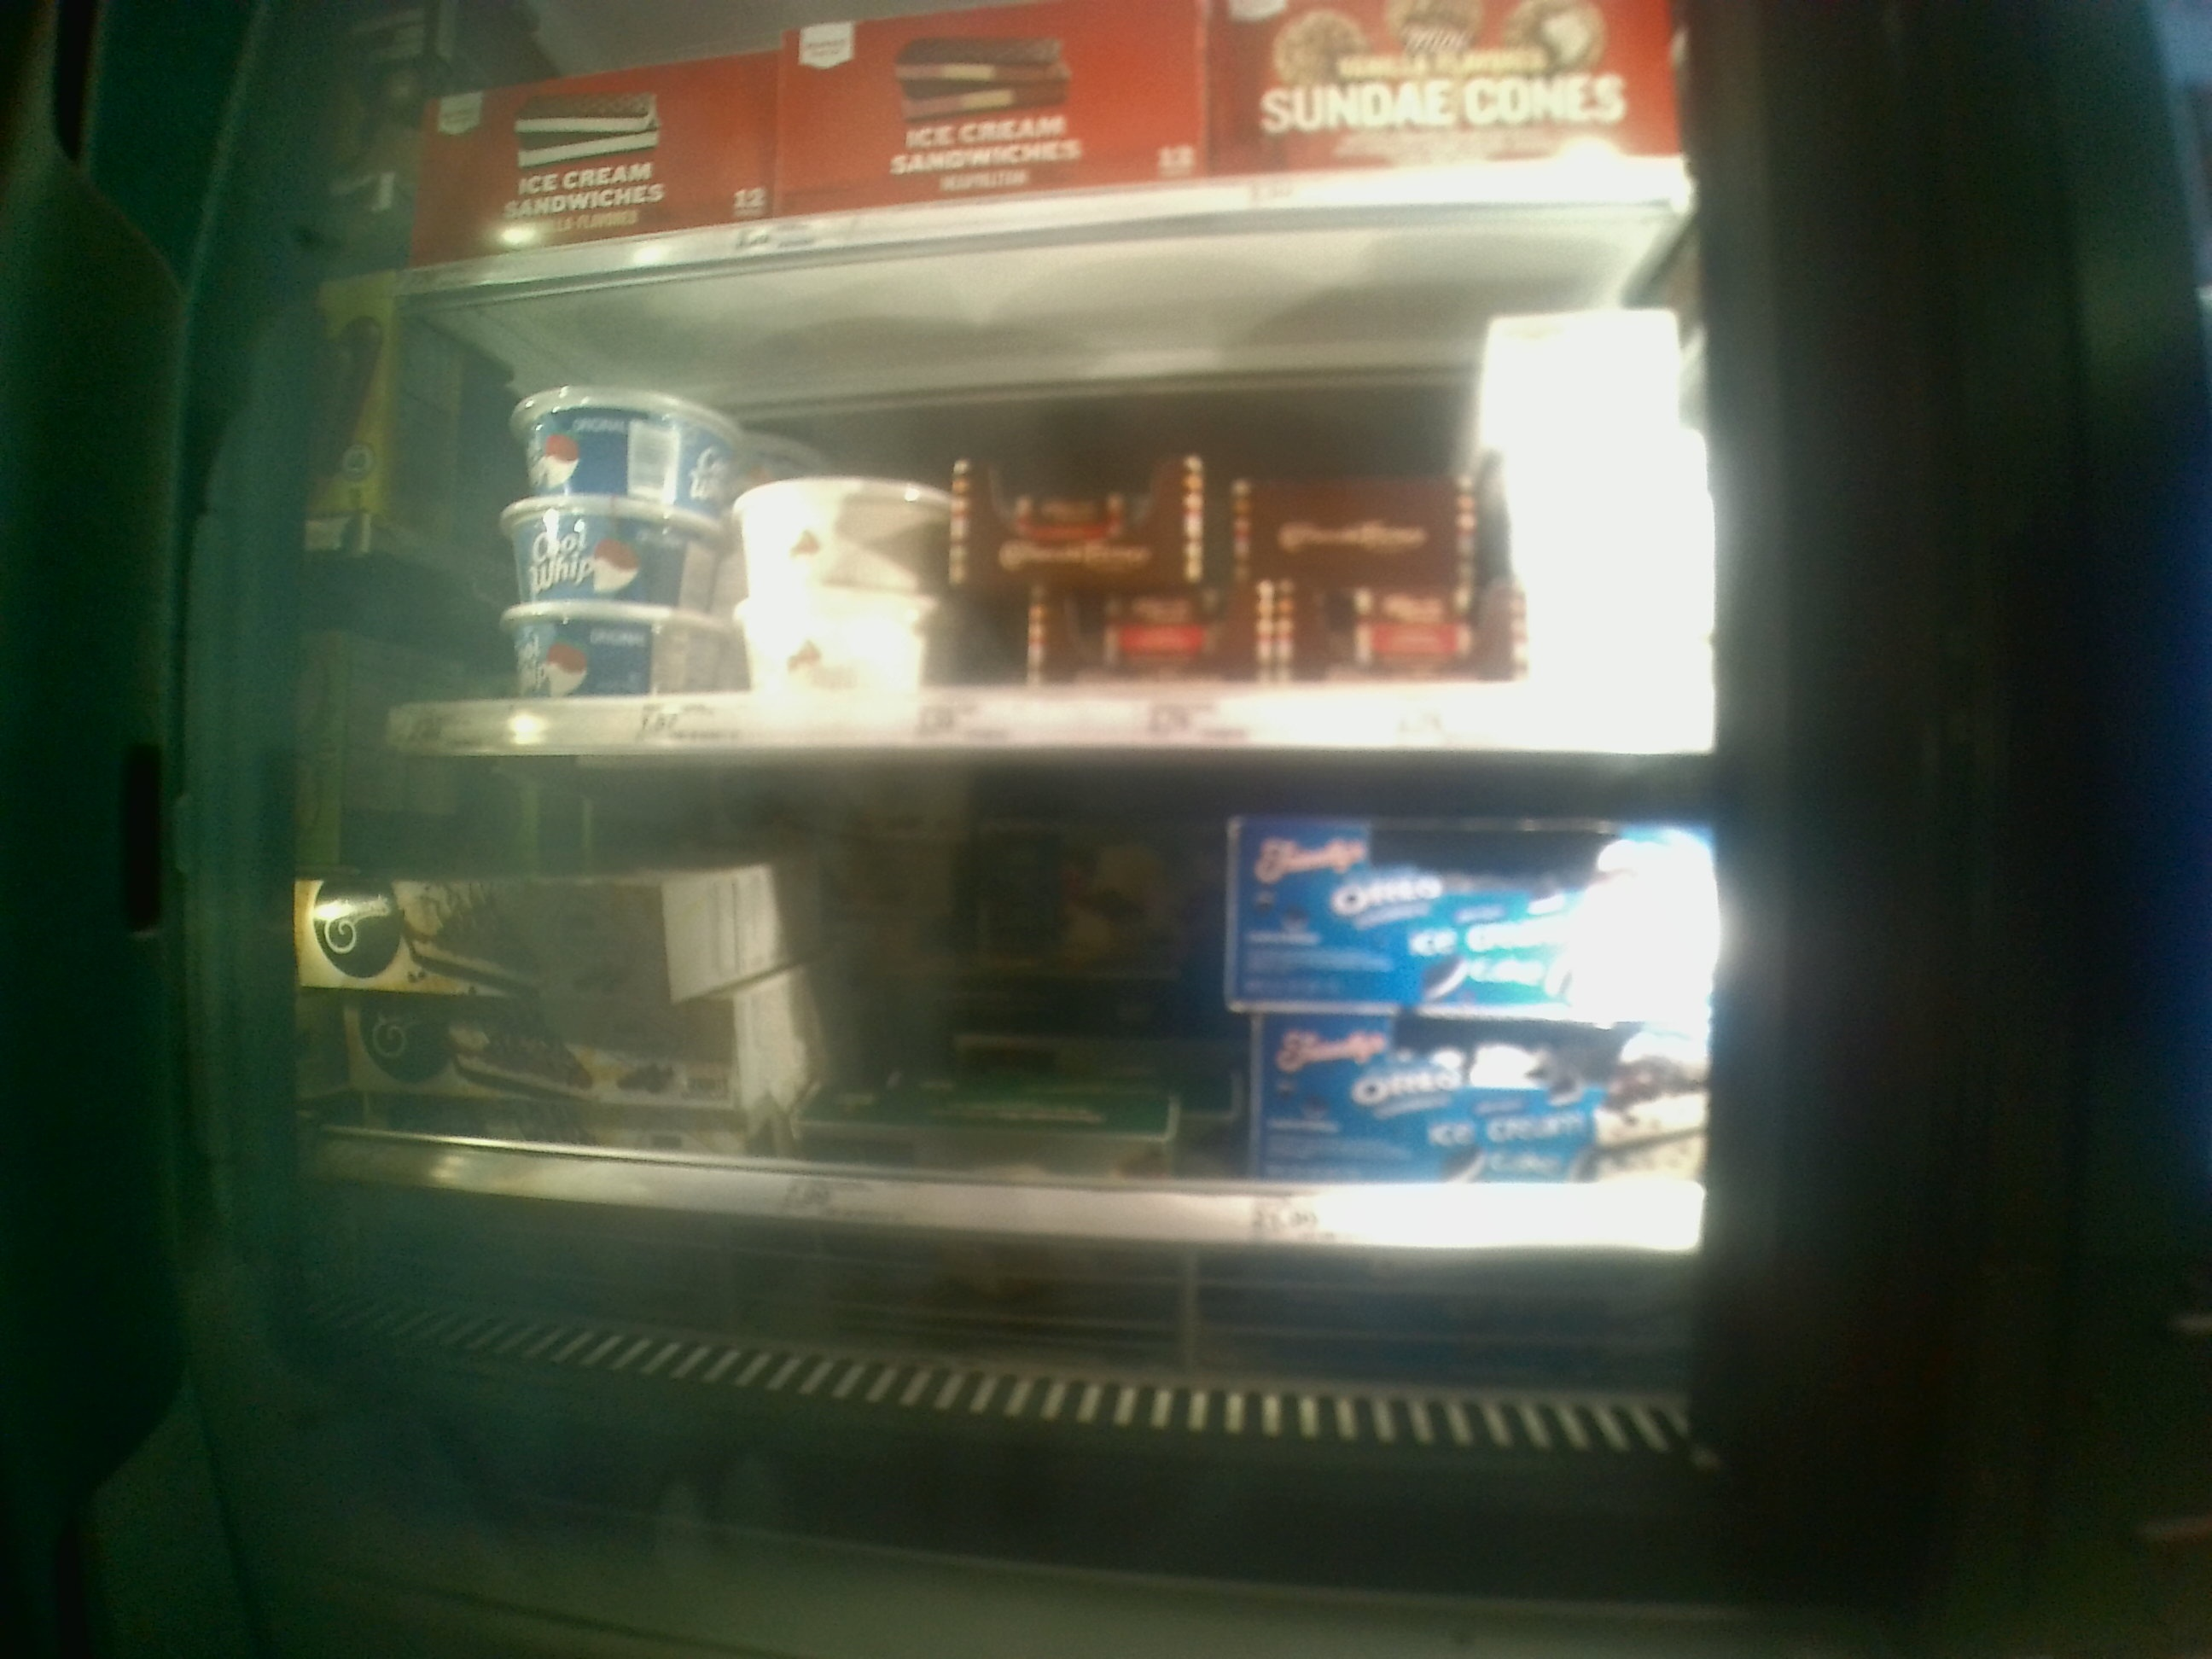shelf: (371, 207, 1721, 756), (261, 753, 1716, 1248)
